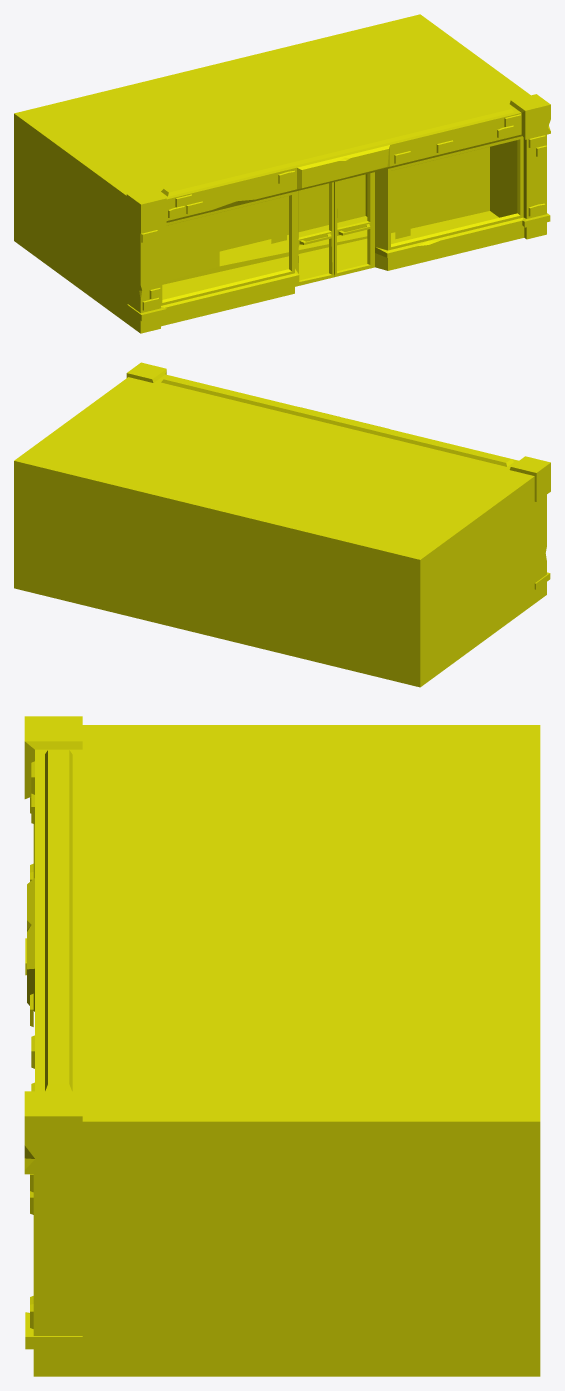
File: cty_shop3.glb
3 views of the same model, one above another, from view 1: azimuth 30°, elevation 25°; view 2: azimuth 150°, elevation 25°; view 3: azimuth 270°, elevation 25° (orthographic). The views are drawn at different scales.
Parts seen in each view (by area): view 1: SM_Bld_Shop_03; view 2: SM_Bld_Shop_03; view 3: SM_Bld_Shop_03.
Part boxes in pixels (x1,y1,x2,y2): SM_Bld_Shop_03: [14, 14, 550, 333]; SM_Bld_Shop_03: [14, 362, 550, 687]; SM_Bld_Shop_03: [24, 716, 540, 1376].
Bounding box in the file's own units: 0.1009 × 0.0308 × 0.0549.
Materials: 1 (1 with a texture image).
